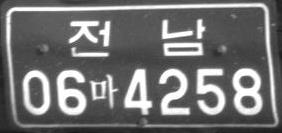0: (21, 68, 51, 115)
2: (158, 67, 190, 116)
4: (122, 68, 153, 115)
5: (195, 67, 227, 115)
6: (55, 68, 88, 116)
8: (231, 67, 264, 116)
마: (89, 72, 119, 109)
전남_D: (68, 18, 206, 57)
